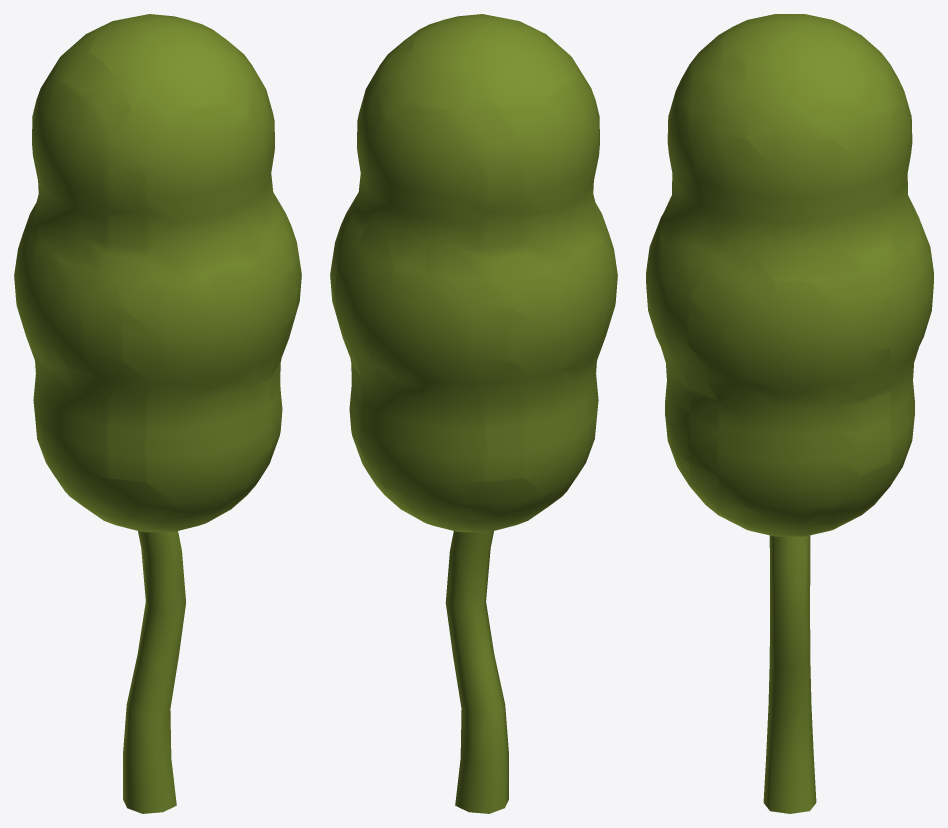
File: SM_Tree_2.fbx
3 views of the same model, side by side, from view 1: azimuth 30°, elevation 25°; view 2: azimuth 150°, elevation 25°; view 3: azimuth 270°, elevation 25° (orthographic).
Visible parts, largest first — view 1: SM_Tree_2; view 2: SM_Tree_2; view 3: SM_Tree_2.
Part boxes in pixels (x1,y1,x2,y2): SM_Tree_2: (14,14,301,813); SM_Tree_2: (330,14,617,813); SM_Tree_2: (646,14,933,813).
Bounding box in the file's own units: 2.08 × 6.22 × 2.08.
